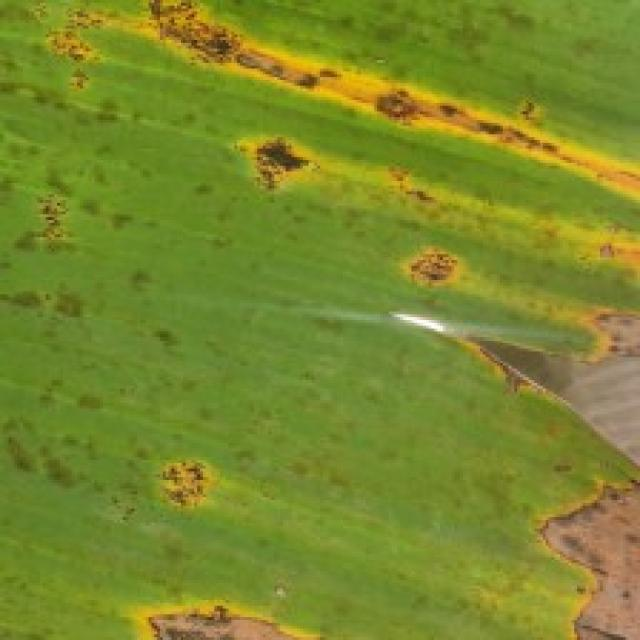Downey_mildrew: (2, 0, 639, 286), (0, 223, 251, 511), (425, 310, 640, 640), (58, 425, 353, 640)
